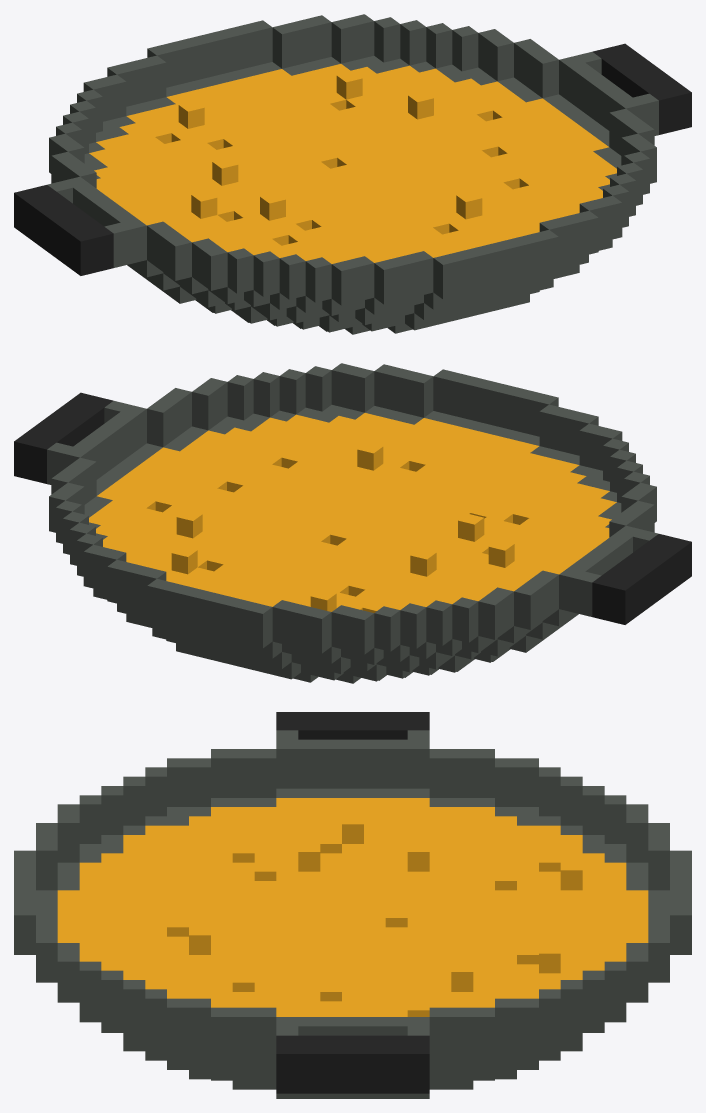
The model's file is Pan_Fired.fbx.
3 views of the same model, one above another, from view 1: azimuth 30°, elevation 25°; view 2: azimuth 150°, elevation 25°; view 3: azimuth 270°, elevation 25° (orthographic). The views are drawn at different scales.
Parts seen in each view (by area): view 1: Pan_Fried:Pan_Fried; view 2: Pan_Fried:Pan_Fried; view 3: Pan_Fried:Pan_Fried.
Part boxes in pixels (left/top/right/bottom): Pan_Fried:Pan_Fried: left=14, top=14, right=691, bottom=334; Pan_Fried:Pan_Fried: left=14, top=363, right=691, bottom=683; Pan_Fried:Pan_Fried: left=14, top=712, right=691, bottom=1098.
Size of the model in its own units: 37 by 6 by 31.
